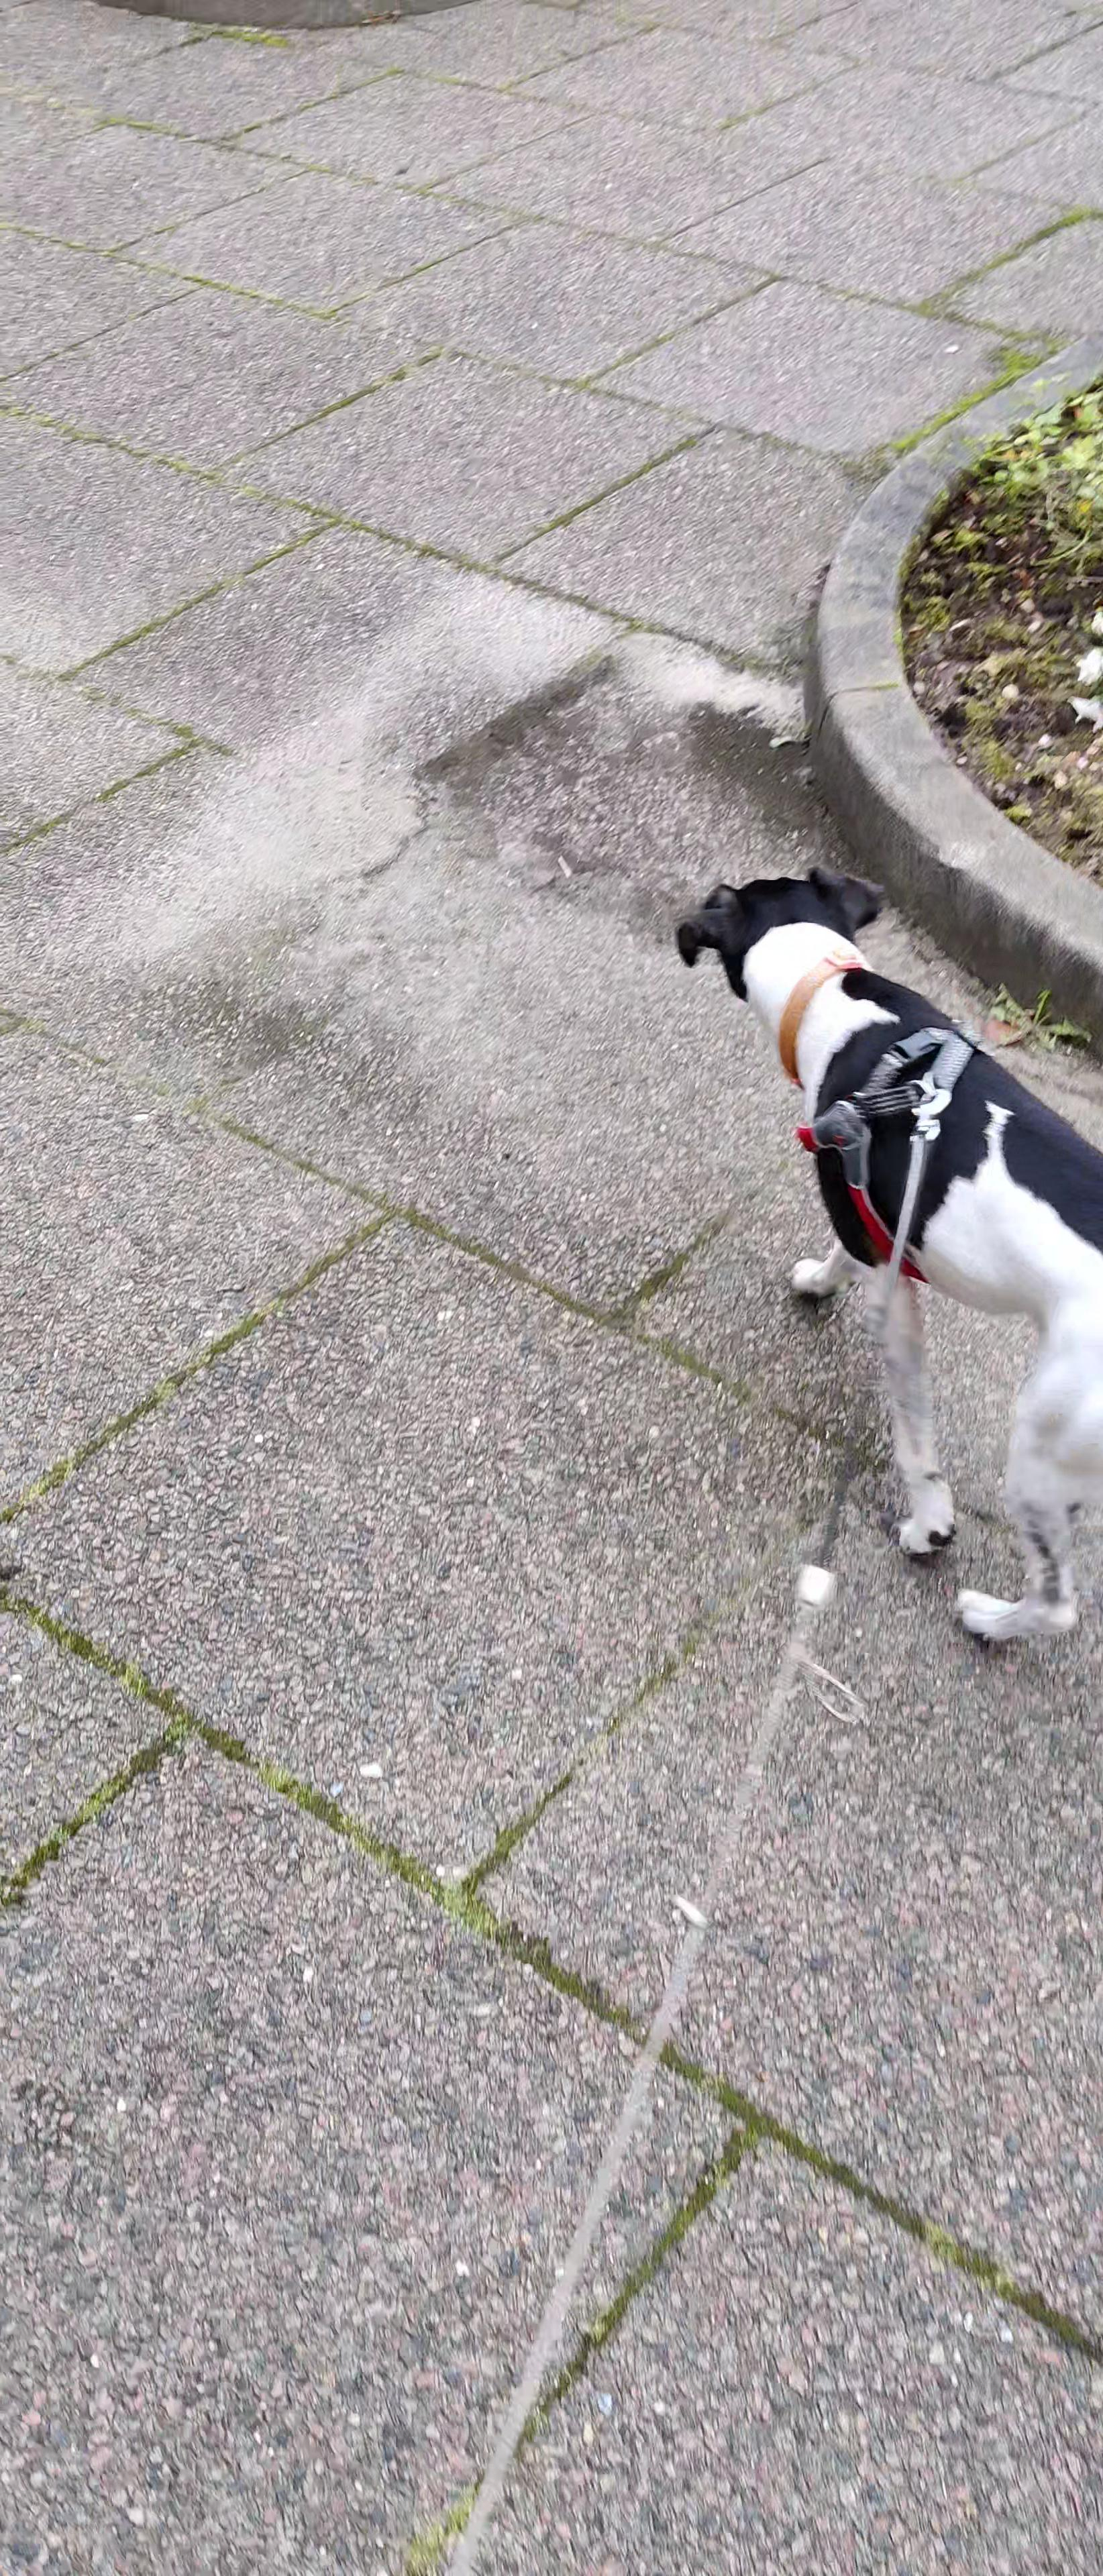Dog: (658, 858, 1103, 1649)
